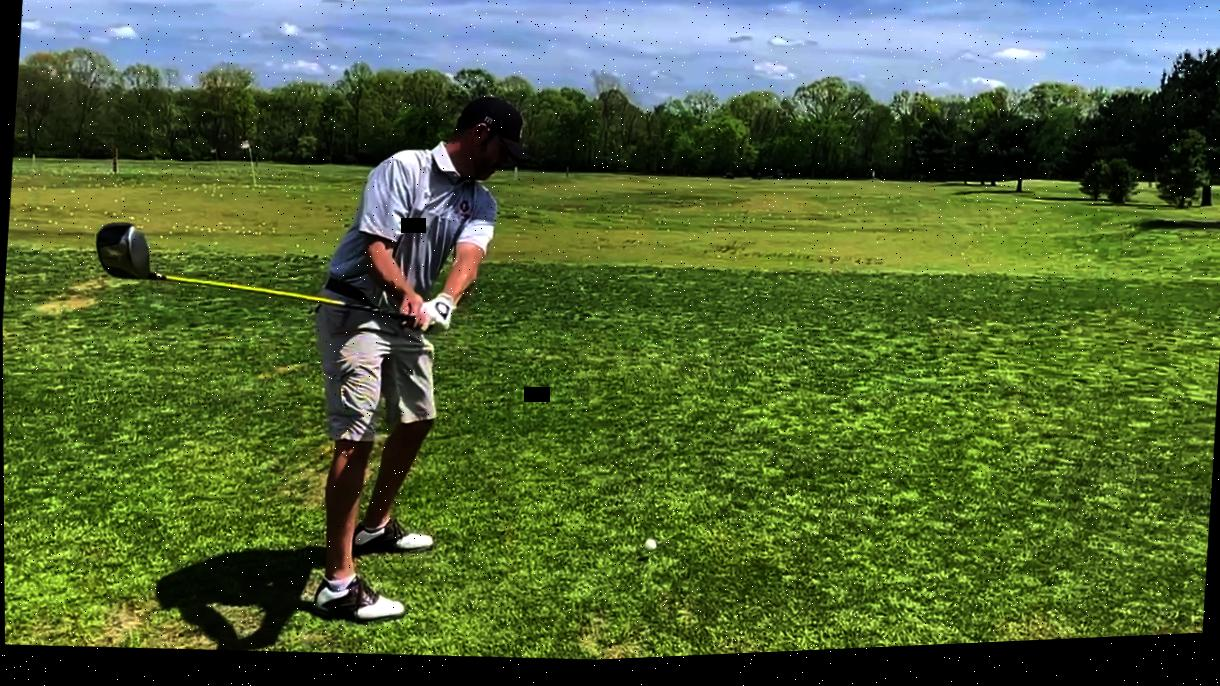ClubHead: (88, 217, 171, 288)
GolfBall: (642, 541, 657, 559)
